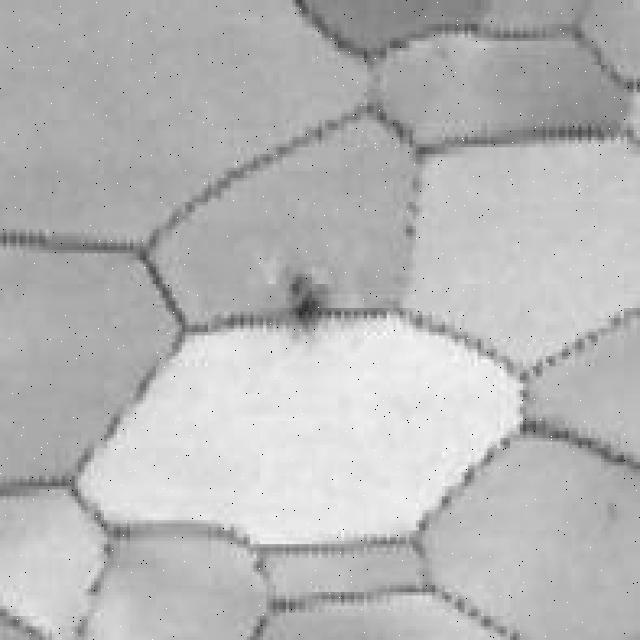good_void: (286, 270, 324, 329)
